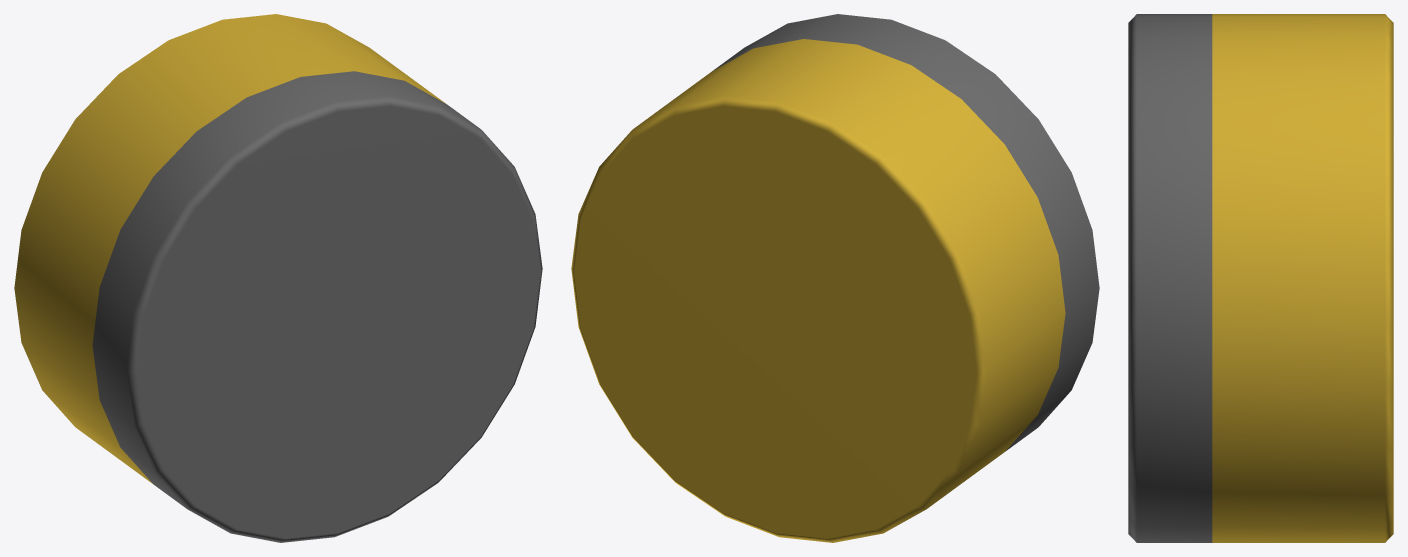
Rendered from Engine_Mid_1m.fbx.
3 renders of one model, left to right at view 1: azimuth 30°, elevation 25°; view 2: azimuth 150°, elevation 25°; view 3: azimuth 270°, elevation 25°, orthographic. The views are drawn at different scales.
Visible parts, largest first — view 1: Engine_Mid_1m; view 2: Engine_Mid_1m; view 3: Engine_Mid_1m.
Boxes of the visible parts, left/top/right/bottom form: Engine_Mid_1m: left=14, top=14, right=542, bottom=542; Engine_Mid_1m: left=571, top=14, right=1099, bottom=542; Engine_Mid_1m: left=1128, top=14, right=1393, bottom=542.
Size of the model in its own units: 200 by 200 by 100.
